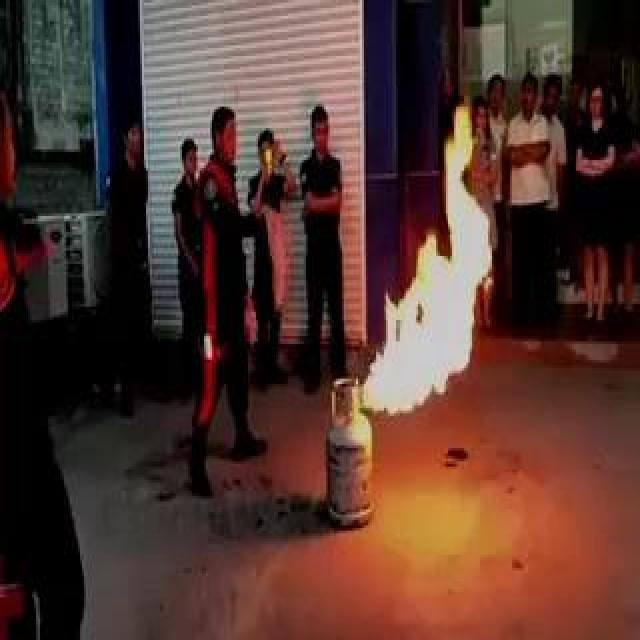Fire: (356, 91, 508, 424)
